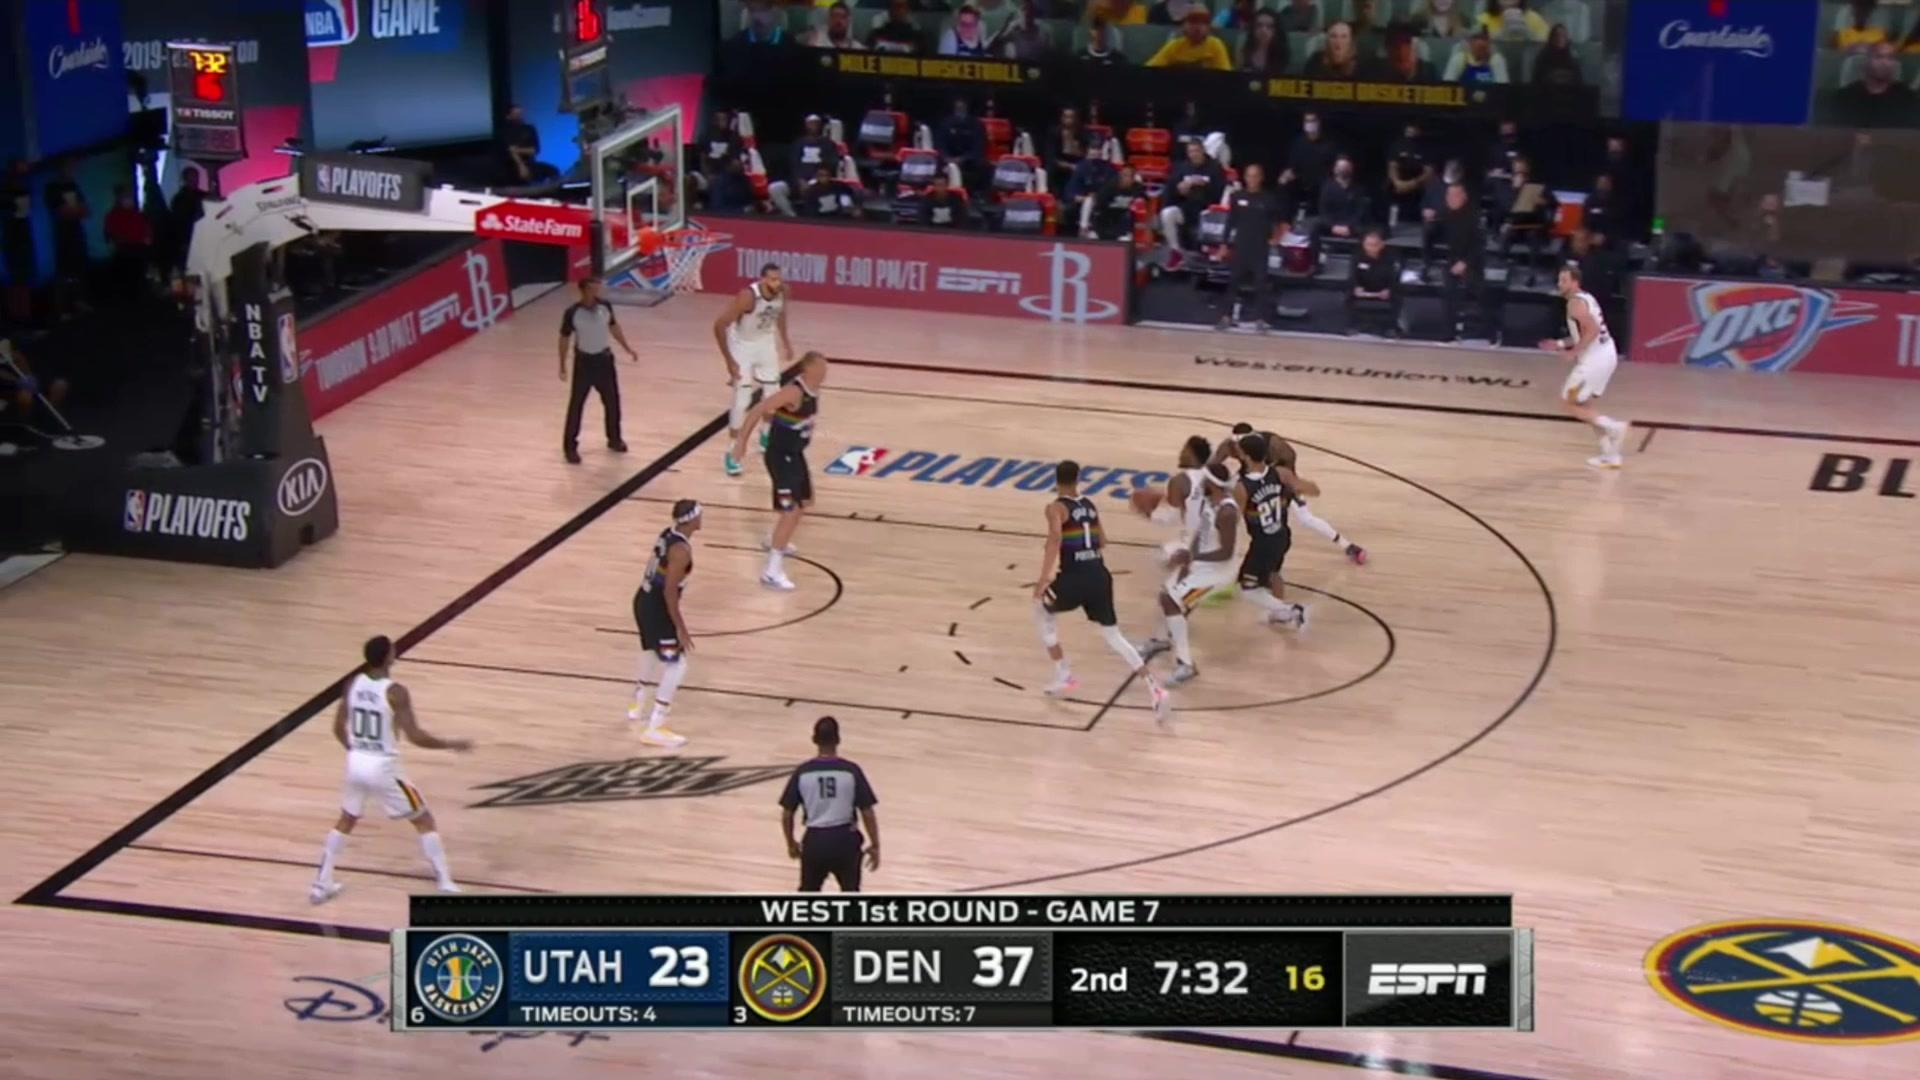no_foul: (1165, 421, 1318, 612)
